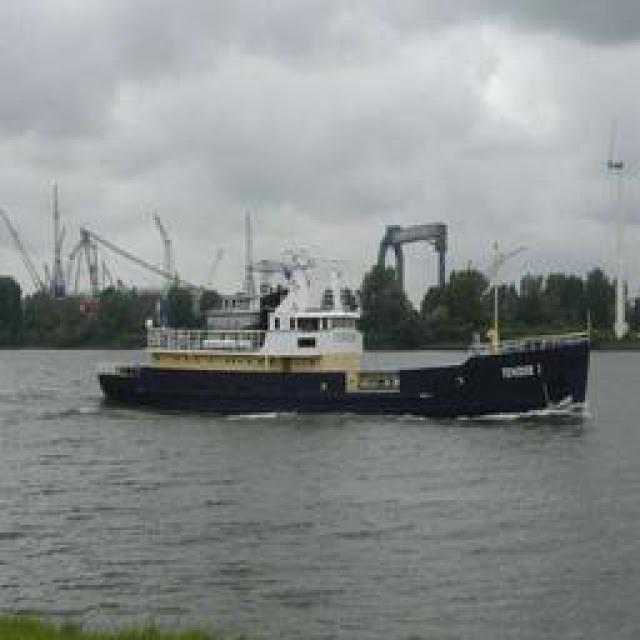Ship: (88, 213, 596, 421)
